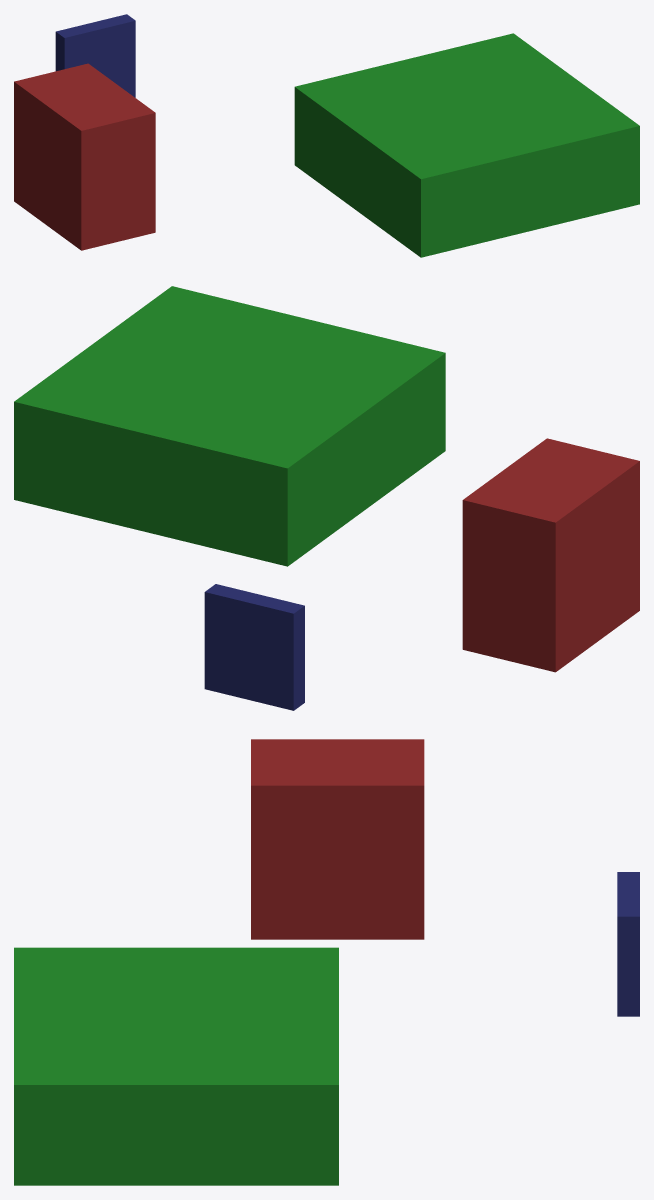
Rendered from boxtestcolors.gltf.
3 views of the same model, one above another, from view 1: azimuth 30°, elevation 25°; view 2: azimuth 150°, elevation 25°; view 3: azimuth 270°, elevation 25° (orthographic). The views are drawn at different scales.
Visible parts, largest first — view 1: box3, box1, box2; view 2: box3, box1, box2; view 3: box3, box1, box2.
Part boxes in pixels (x1,y1,x2,y2): box3: (294,33,639,257); box1: (14,63,155,250); box2: (55,14,135,97); box3: (14,286,445,566); box1: (462,438,639,672); box2: (204,584,304,710); box3: (14,947,338,1185); box1: (251,739,424,939); box2: (617,872,639,1016).
Bounding box in the file's own units: 109 × 26.71 × 98.4.
